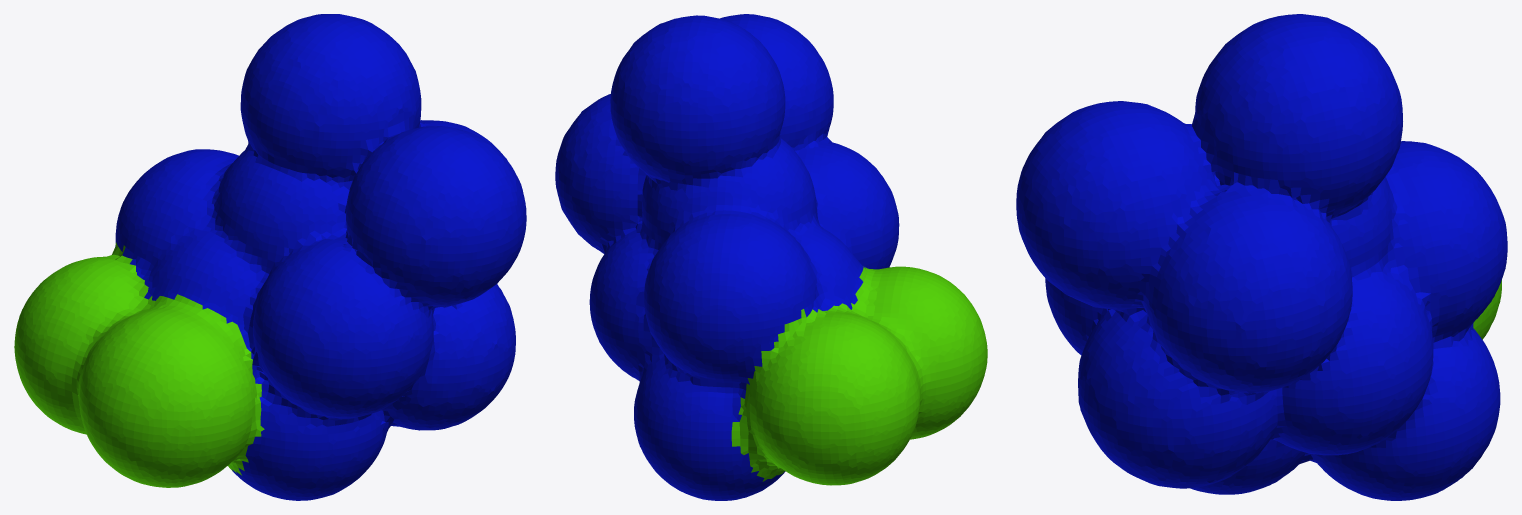
The model's file is vaccine_new_painted.obj.
3 views of the same model, side by side, from view 1: azimuth 30°, elevation 25°; view 2: azimuth 150°, elevation 25°; view 3: azimuth 270°, elevation 25° (orthographic). The views are drawn at different scales.
Visible parts, largest first — view 1: Icosphere; view 2: Icosphere; view 3: Icosphere.
Boxes of the visible parts, bbox=[...] form: Icosphere: bbox=[14, 14, 526, 500]; Icosphere: bbox=[555, 14, 987, 500]; Icosphere: bbox=[1016, 14, 1507, 500].
Bounding box in the file's own units: 5.31 × 5.27 × 4.66.
